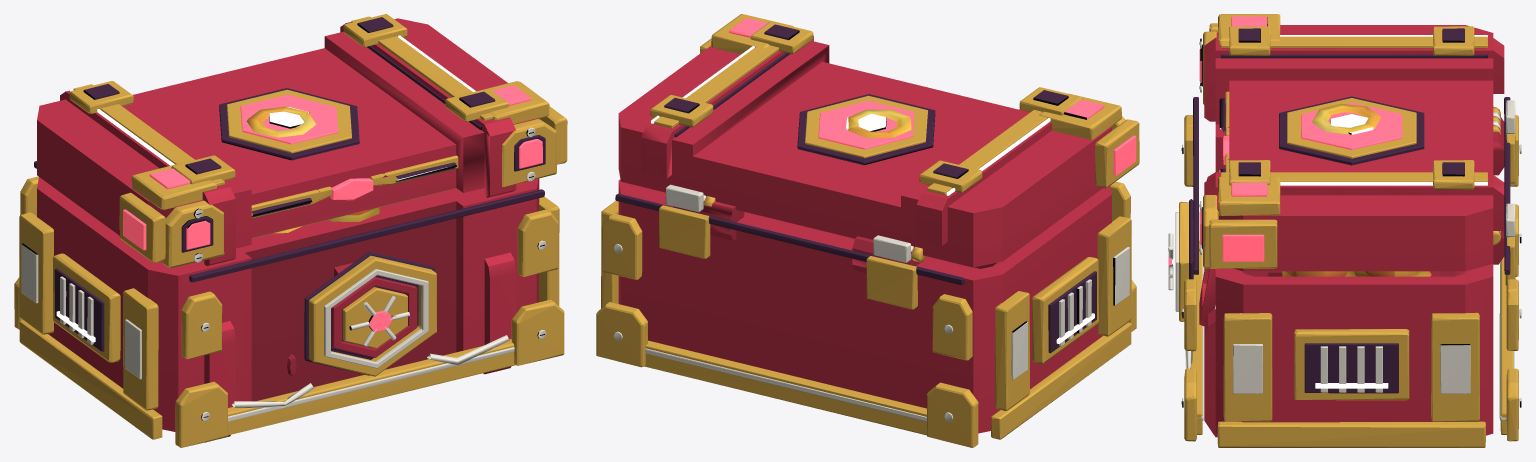
File: crimson-citadel.glb
The picture shows the model from 3 angles, left to right: view 1: azimuth 30°, elevation 25°; view 2: azimuth 150°, elevation 25°; view 3: azimuth 270°, elevation 25°; orthographic projection.
Visible parts, largest first — view 1: Body, LidShell, CoinPile; view 2: Body, LidShell, CoinPile; view 3: LidShell, Body, CoinPile.
Part boxes in pixels (x1=…): Body: x1=14, y1=161, x2=564, y2=447; LidShell: x1=37, y1=14, x2=567, y2=268; CoinPile: x1=246, y1=106, x2=379, y2=233; Body: x1=596, y1=179, x2=1136, y2=447; LidShell: x1=618, y1=14, x2=1139, y2=267; CoinPile: x1=848, y1=109, x2=911, y2=138; LidShell: x1=1199, y1=14, x2=1515, y2=271; Body: x1=1168, y1=97, x2=1521, y2=447; CoinPile: x1=1282, y1=103, x2=1431, y2=276.
Size of the model in its own units: 2.2 by 1.27 by 1.56.
Materials: 2 (2 with a texture image).
